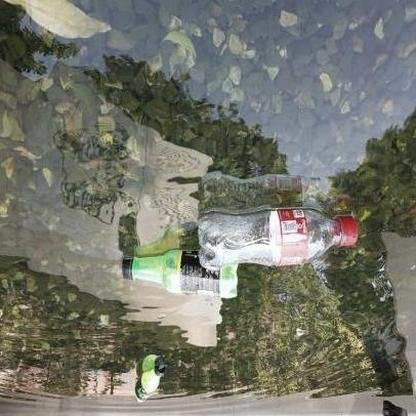plastic bottle: (197, 208, 359, 265), (122, 251, 239, 300), (135, 361, 165, 403)
